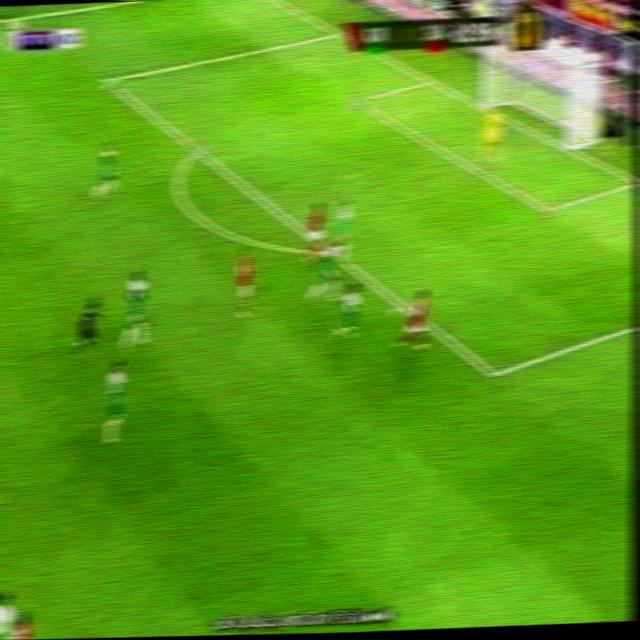bigarea_bottom_inner: (481, 357, 510, 388)
bigarea_top_inner: (97, 69, 117, 90)
bigarea_top_outter: (329, 24, 349, 41)
bottom_arc_area_intersection: (321, 242, 339, 260)
smallarea_bottom_inner: (536, 192, 561, 222)
smallarea_bottom_outter: (628, 168, 637, 194)
smallarea_top_inner: (346, 89, 368, 111)
smallarea_top_outter: (421, 70, 442, 91)
top_arc_area_intersection: (188, 138, 208, 160)
